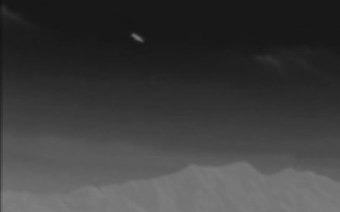Target: (133, 34, 144, 42)
